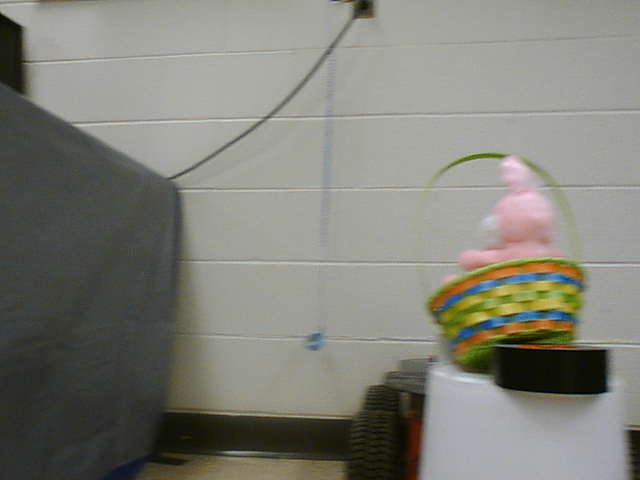bunny: (408, 148, 590, 365)
